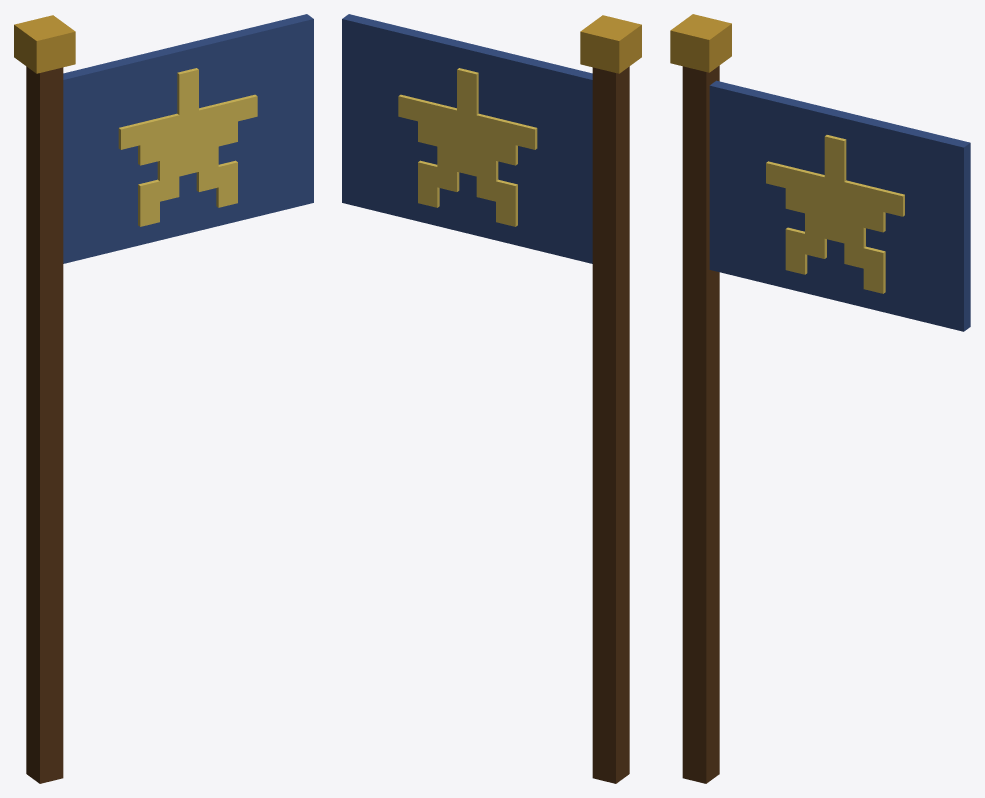
File: ncb-flag-star.glb
3 views of the same model, side by side, from view 1: azimuth 30°, elevation 25°; view 2: azimuth 150°, elevation 25°; view 3: azimuth 330°, elevation 25° (orthographic).
Visible parts, largest first — view 1: box-prop; view 2: box-prop; view 3: box-prop.
Part boxes in pixels (box(x1,y1,x2,y2)): box-prop: box(14, 14, 313, 783); box-prop: box(342, 14, 641, 783); box-prop: box(670, 14, 970, 783).
Bounding box in the file's own units: 1.46 × 3.66 × 0.2.
